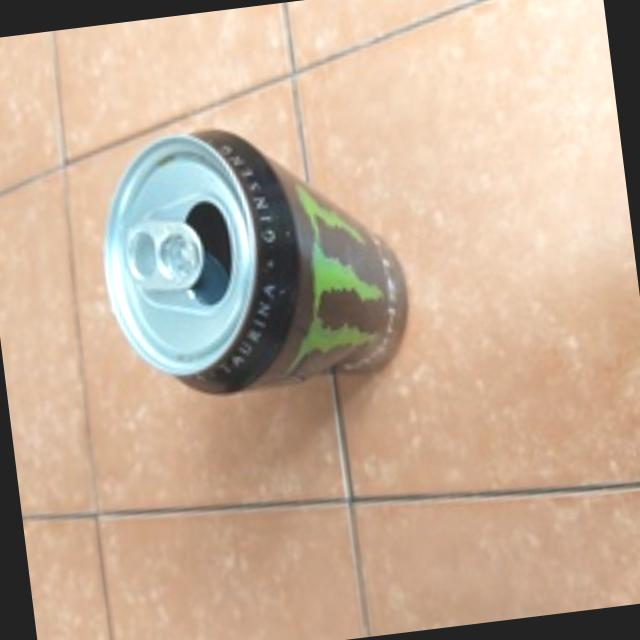Metal: (85, 104, 418, 410)
